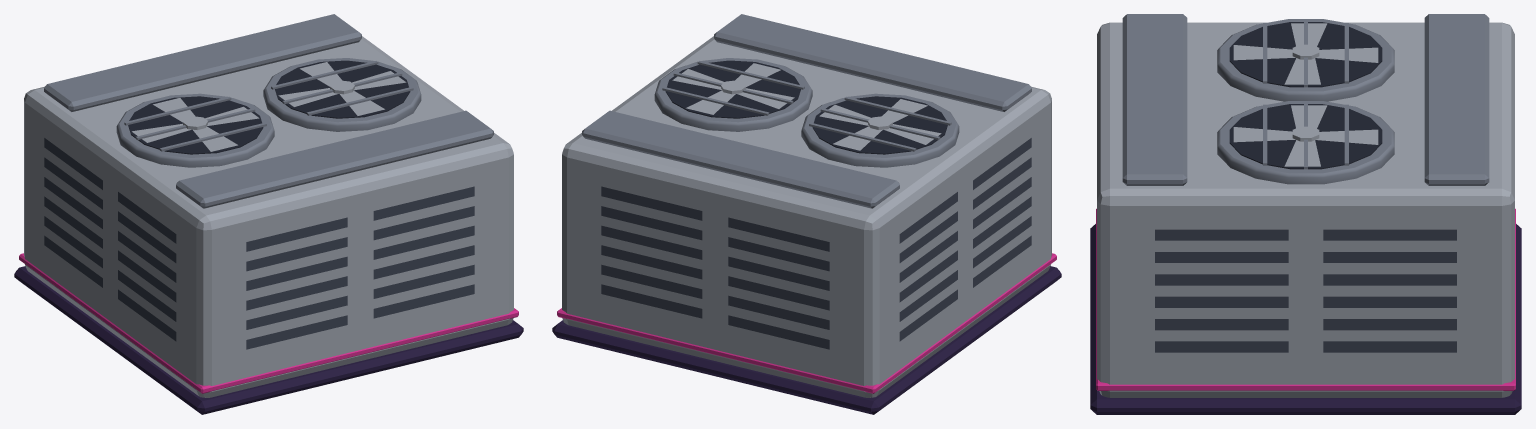
Rendered from neon-block.glb.
3 renders of one model, left to right at view 1: azimuth 30°, elevation 25°; view 2: azimuth 150°, elevation 25°; view 3: azimuth 270°, elevation 25°, orthographic. The views are drawn at different scales.
Parts seen in each view (by area): view 1: neon-block; view 2: neon-block; view 3: neon-block.
Boxes of the visible parts, left/top/right/bottom form: neon-block: left=14, top=14, right=523, bottom=414; neon-block: left=552, top=14, right=1061, bottom=414; neon-block: left=1090, top=14, right=1521, bottom=414.
Bounding box in the file's own units: 2 × 1.2 × 2.
